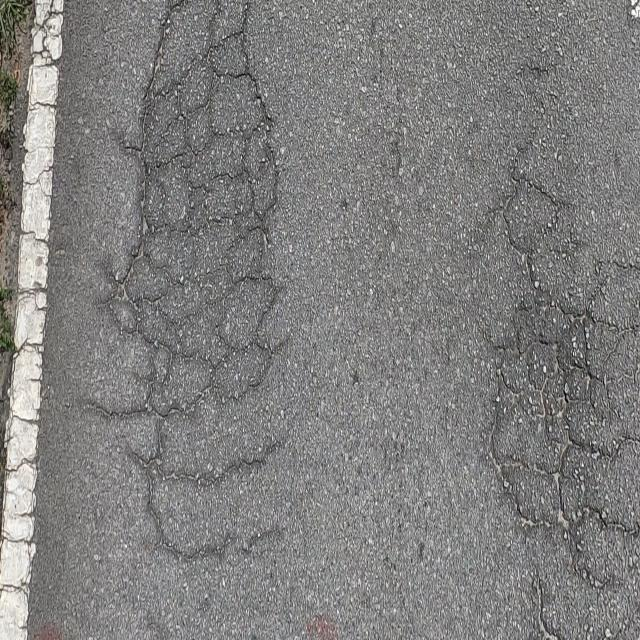Retak-Buaya: (90, 0, 295, 570), (485, 142, 640, 640)
